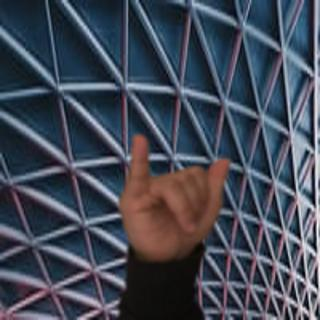HAVE: (113, 131, 237, 262)
